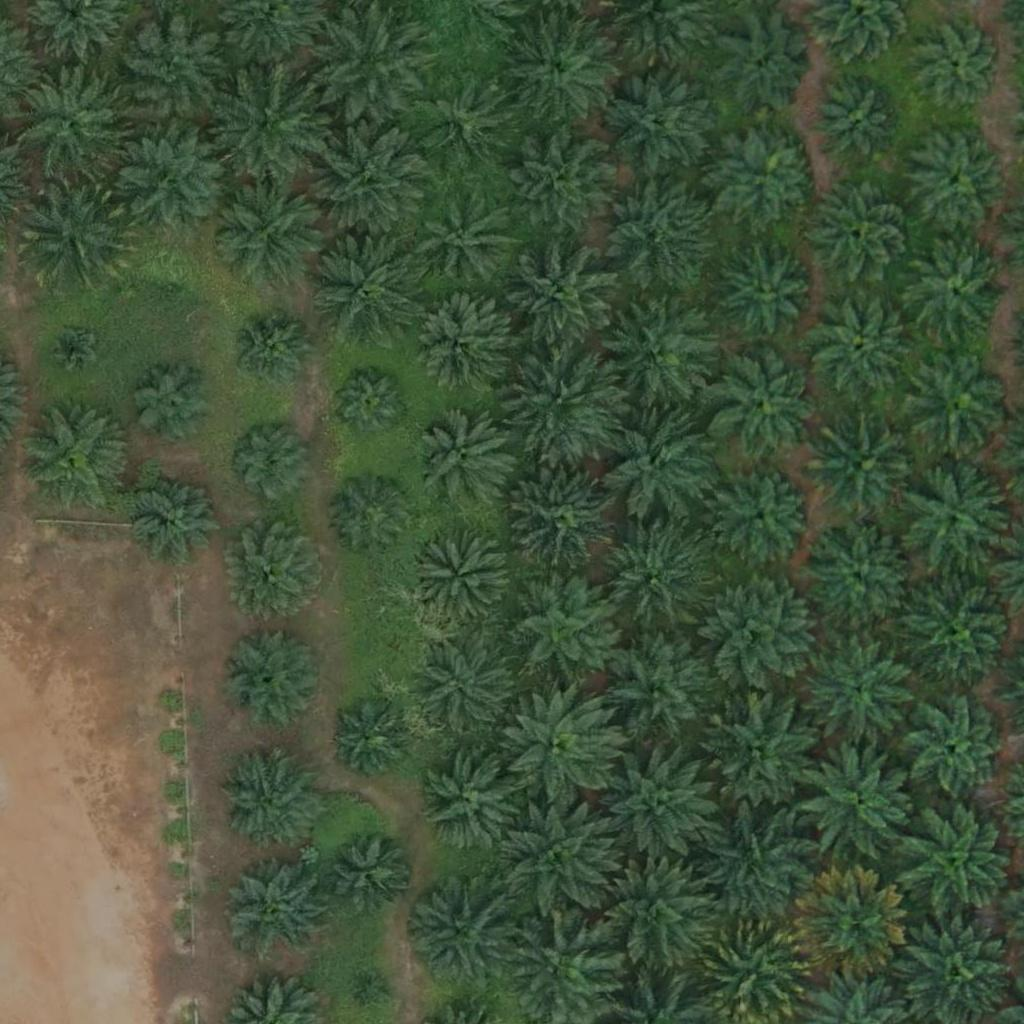Kelapa_Sawit: (309, 225, 422, 339), (209, 66, 322, 180), (404, 876, 517, 990), (604, 65, 717, 178), (600, 175, 713, 288), (500, 12, 613, 125), (506, 129, 619, 242), (214, 176, 327, 289), (116, 16, 229, 129), (508, 347, 621, 460), (509, 464, 622, 577), (605, 295, 718, 408), (602, 409, 715, 522), (596, 520, 709, 633), (604, 635, 717, 748), (704, 575, 817, 688), (707, 689, 820, 802), (706, 807, 819, 920), (897, 462, 1010, 575), (795, 868, 908, 981), (506, 240, 618, 354), (313, 6, 425, 120), (315, 123, 427, 237), (19, 401, 131, 515), (504, 804, 616, 918), (18, 177, 130, 290), (121, 123, 233, 236), (16, 67, 128, 180), (504, 573, 616, 686), (503, 694, 615, 807), (606, 746, 718, 859), (709, 349, 821, 462), (804, 288, 916, 401), (811, 415, 923, 528), (804, 521, 916, 634), (804, 640, 916, 753), (801, 746, 913, 859), (904, 580, 1016, 693), (905, 804, 1017, 917), (595, 861, 707, 974), (906, 129, 1006, 230), (906, 246, 1006, 347), (810, 183, 910, 284), (715, 16, 815, 117), (716, 126, 816, 227), (713, 240, 813, 341), (217, 748, 317, 849), (409, 297, 509, 398), (415, 409, 515, 510), (410, 527, 510, 628), (715, 466, 815, 567), (905, 700, 1005, 801), (225, 859, 325, 960), (413, 73, 513, 173), (417, 192, 517, 292), (227, 522, 327, 622), (222, 629, 322, 729), (420, 641, 520, 741), (422, 754, 522, 854), (907, 350, 1007, 450), (814, 78, 902, 166), (136, 474, 224, 562), (914, 21, 1001, 109), (130, 359, 217, 447), (229, 309, 316, 397), (226, 418, 313, 506), (328, 473, 415, 561), (326, 829, 413, 917), (333, 701, 408, 777), (331, 365, 406, 440), (48, 323, 98, 374), (145, 260, 195, 310), (364, 977, 389, 1002)
